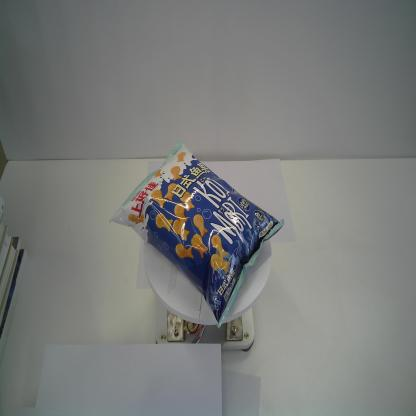Puffed Food: (107, 140, 286, 330)
